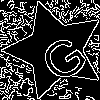G: (30, 25, 92, 86)
